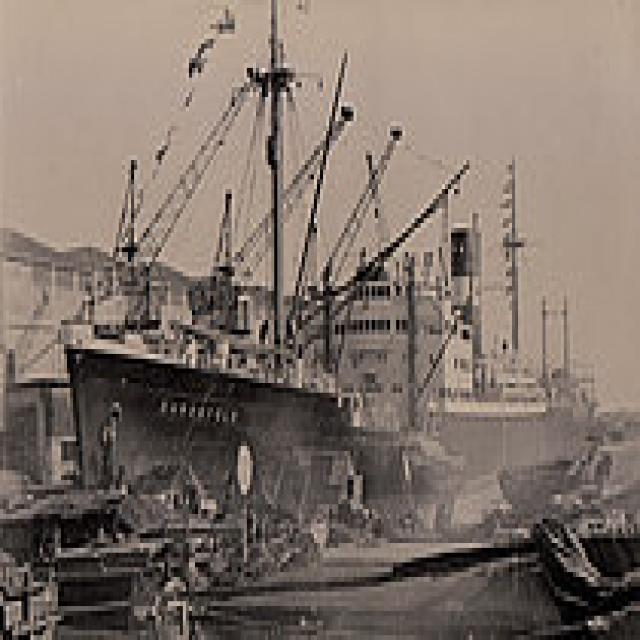Ship: (53, 141, 602, 549)
